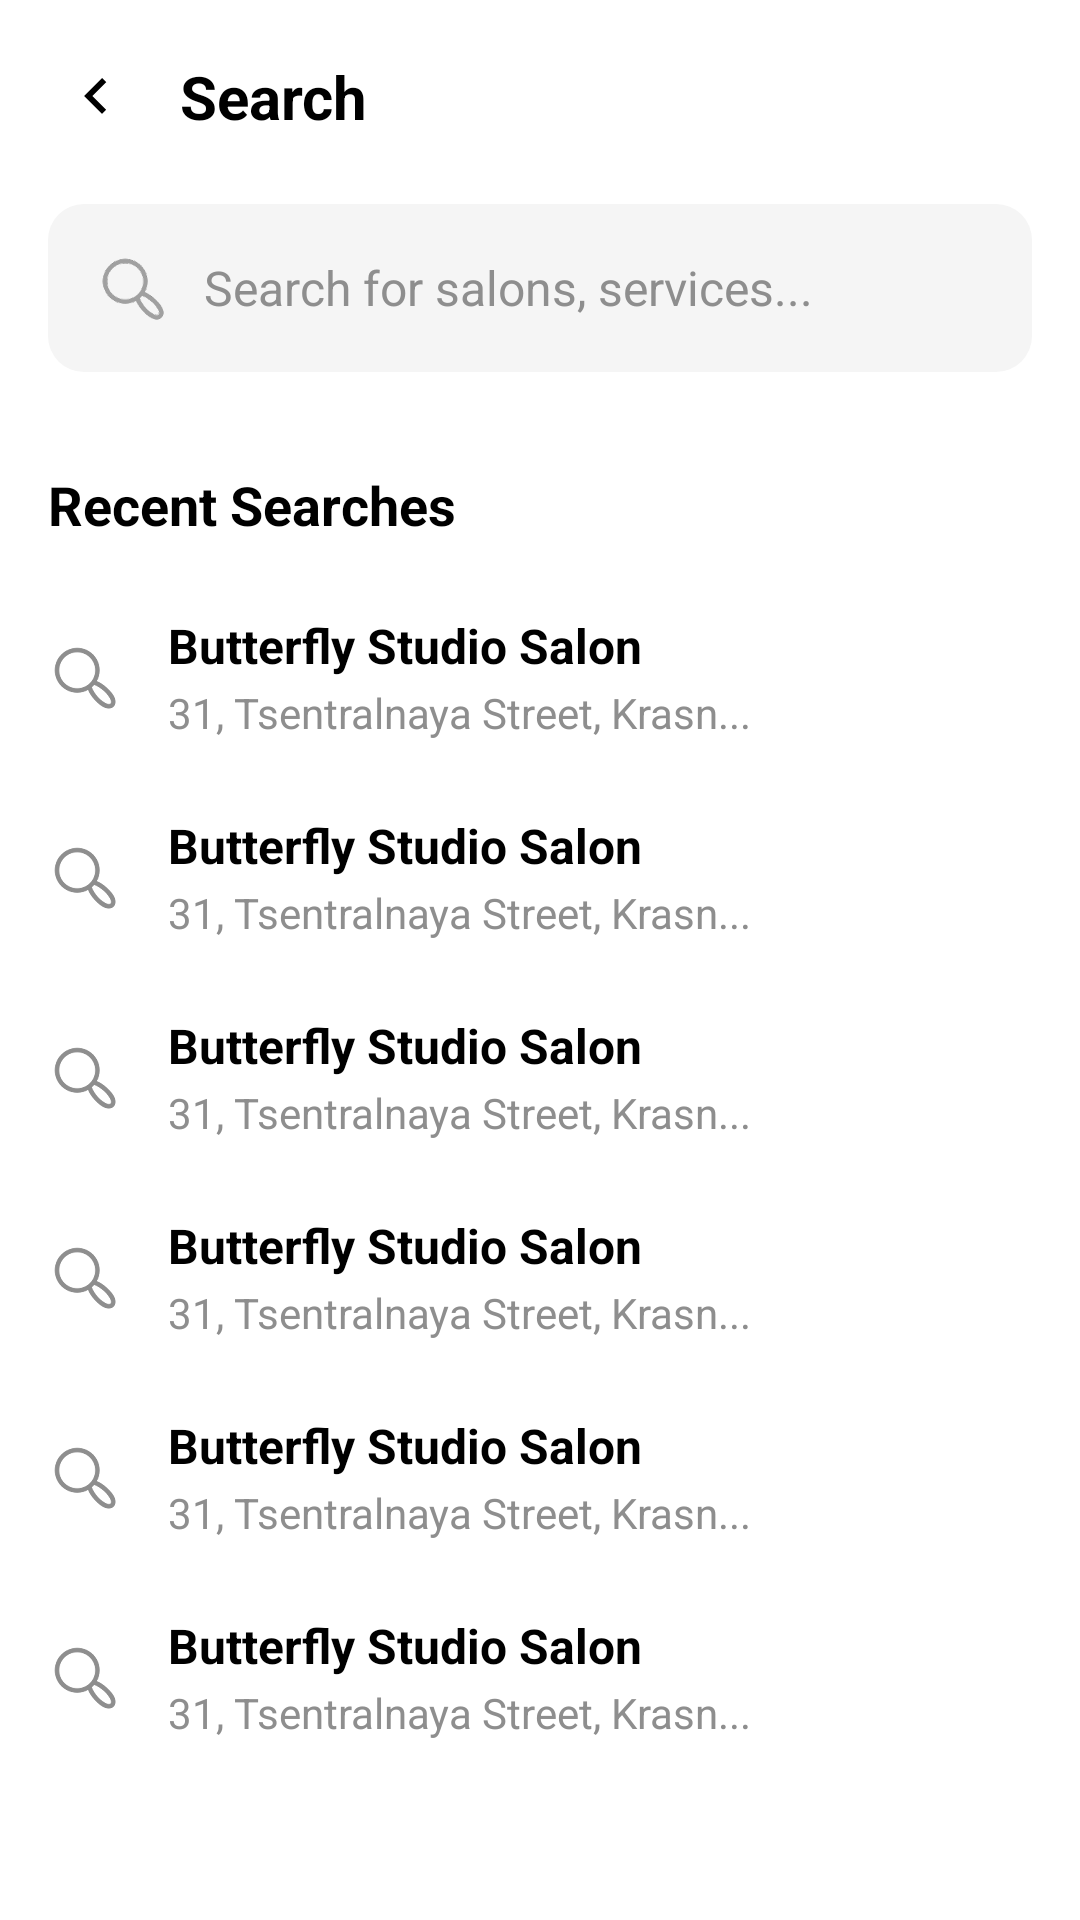

Where to tap for icons on this 1080×1920 app screen, as [x,y]:
back: [95,96]
